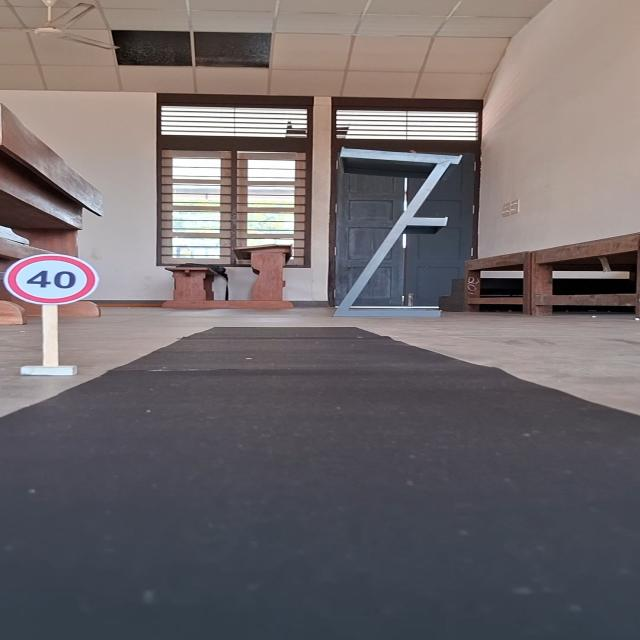Speed40: (2, 252, 103, 308)
